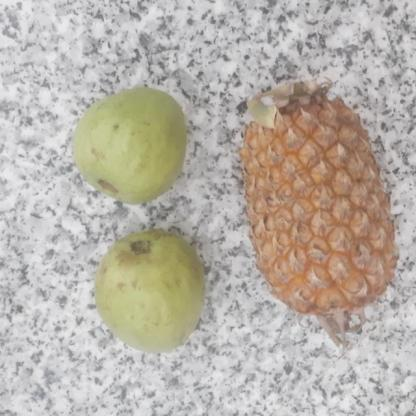guava: (90, 235, 206, 351), (70, 89, 188, 200)
pineapple: (237, 85, 393, 321)
